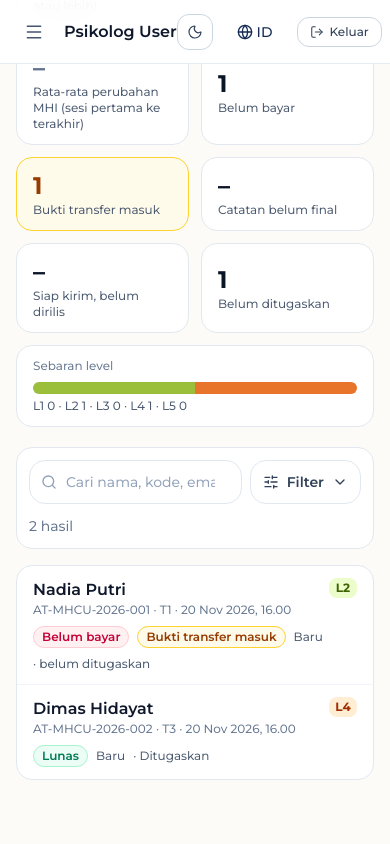
MHCU dashboard › a psychologist can write the note but cannot assign, set payment or release
The image size is (390, 844).
(page scrolled)
Step 1. Click the button "Nadia Putri" → coordinates (195, 625), box [17,566,373,684]
(page scrolled)
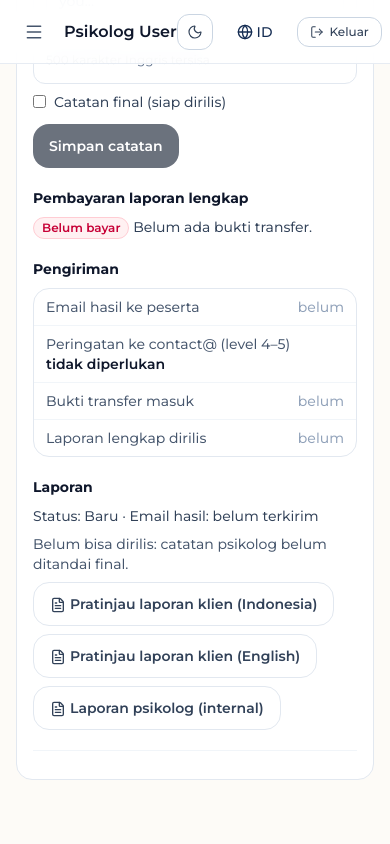
Check: the button "Simpan catatan" is shown, box [33,124,179,168]
Check: the button "Laporan psikolog (internal)" is shown, box [33,686,281,730]
